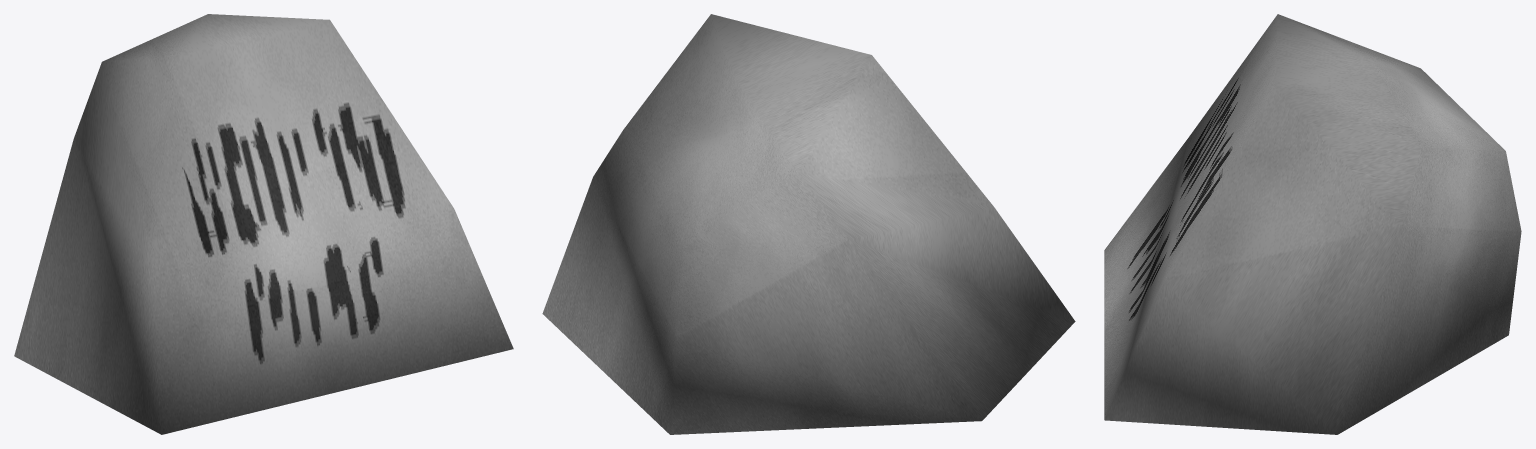
File: RuneStone.glb
3 renders of one model, left to right at view 1: azimuth 30°, elevation 25°; view 2: azimuth 150°, elevation 25°; view 3: azimuth 270°, elevation 25°, orthographic. The views are drawn at different scales.
Parts seen in each view (by area): view 1: Cylinder; view 2: Cylinder; view 3: Cylinder.
Part boxes in pixels (box(x1,y1,x2,y2)): Cylinder: box(14, 14, 513, 434); Cylinder: box(542, 14, 1075, 434); Cylinder: box(1104, 14, 1521, 434).
Bounding box in the file's own units: 1.9 × 1.28 × 1.68.
Materials: 1 (1 with a texture image).
